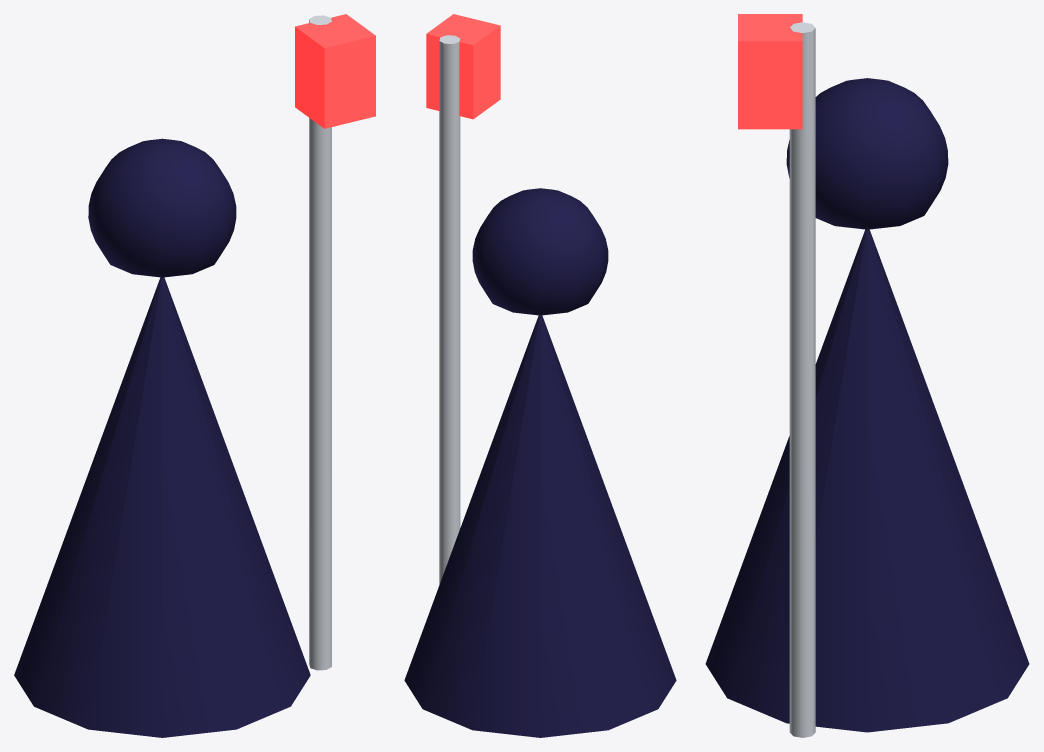
File: npc_charon_boatman.glb
The picture shows the model from 3 angles, left to right: view 1: azimuth 30°, elevation 25°; view 2: azimuth 150°, elevation 25°; view 3: azimuth 270°, elevation 25°; orthographic projection. The views are drawn at different scales.
Parts seen in each view (by area): view 1: NPC_CHARON_THE_BOATMAN; view 2: NPC_CHARON_THE_BOATMAN; view 3: NPC_CHARON_THE_BOATMAN.
Part boxes in pixels (bbox=[...]): NPC_CHARON_THE_BOATMAN: bbox=[14, 14, 375, 737]; NPC_CHARON_THE_BOATMAN: bbox=[404, 14, 676, 737]; NPC_CHARON_THE_BOATMAN: bbox=[705, 14, 1029, 737].
Size of the model in its own units: 1.1 by 2.4 by 1.
